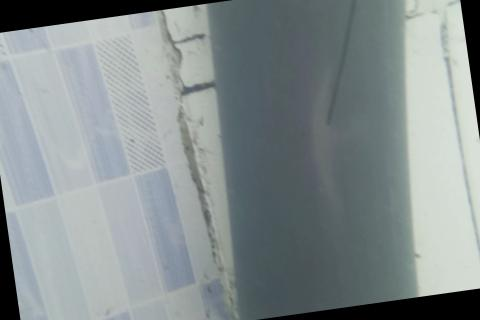keretakan: (304, 1, 382, 124)
